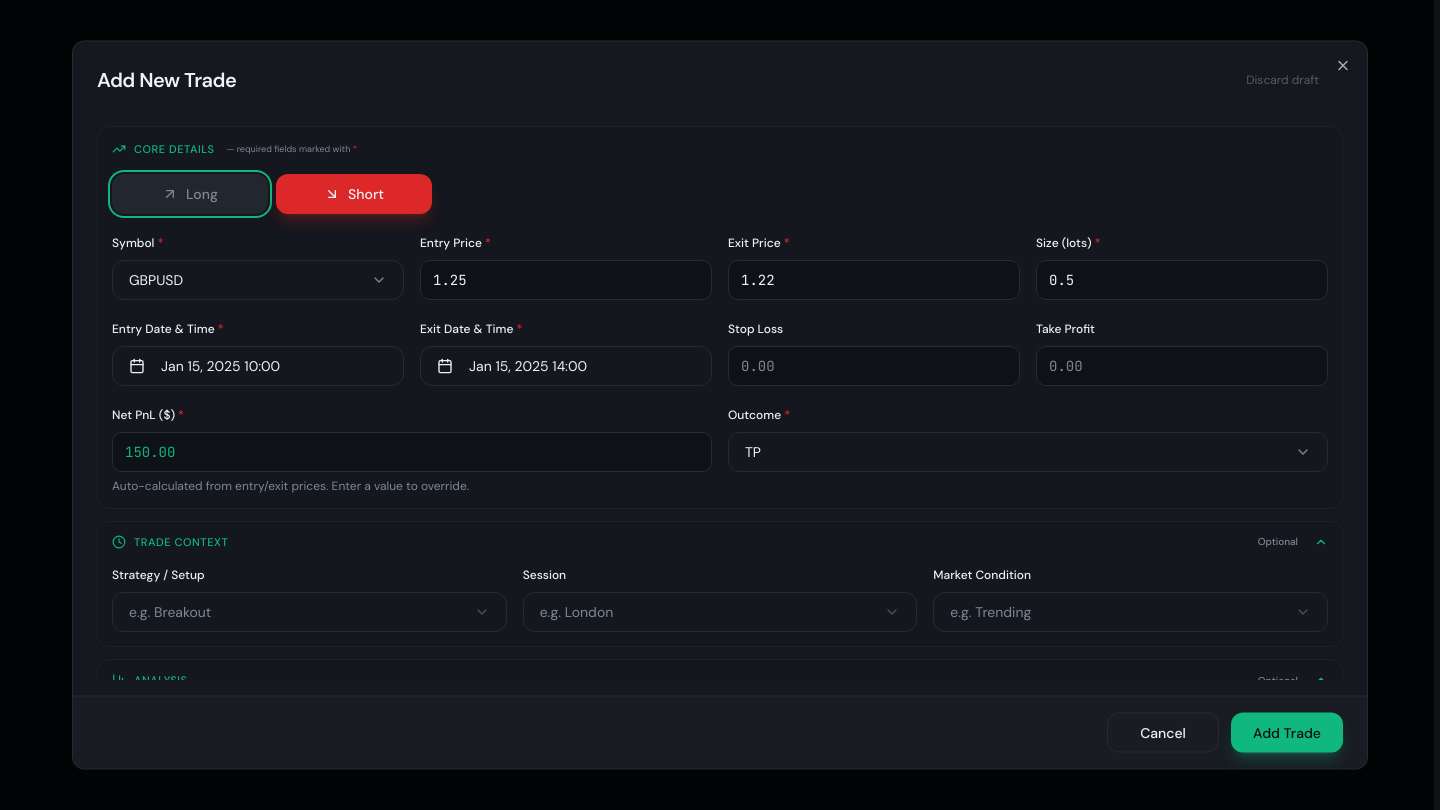
Scenario: AddTradeModal - Form Draft Integration › clears draft and resets form when "Discard draft" is clicked
Click the button "Discard draft" at (1283, 80), box [1246,72,1319,88]
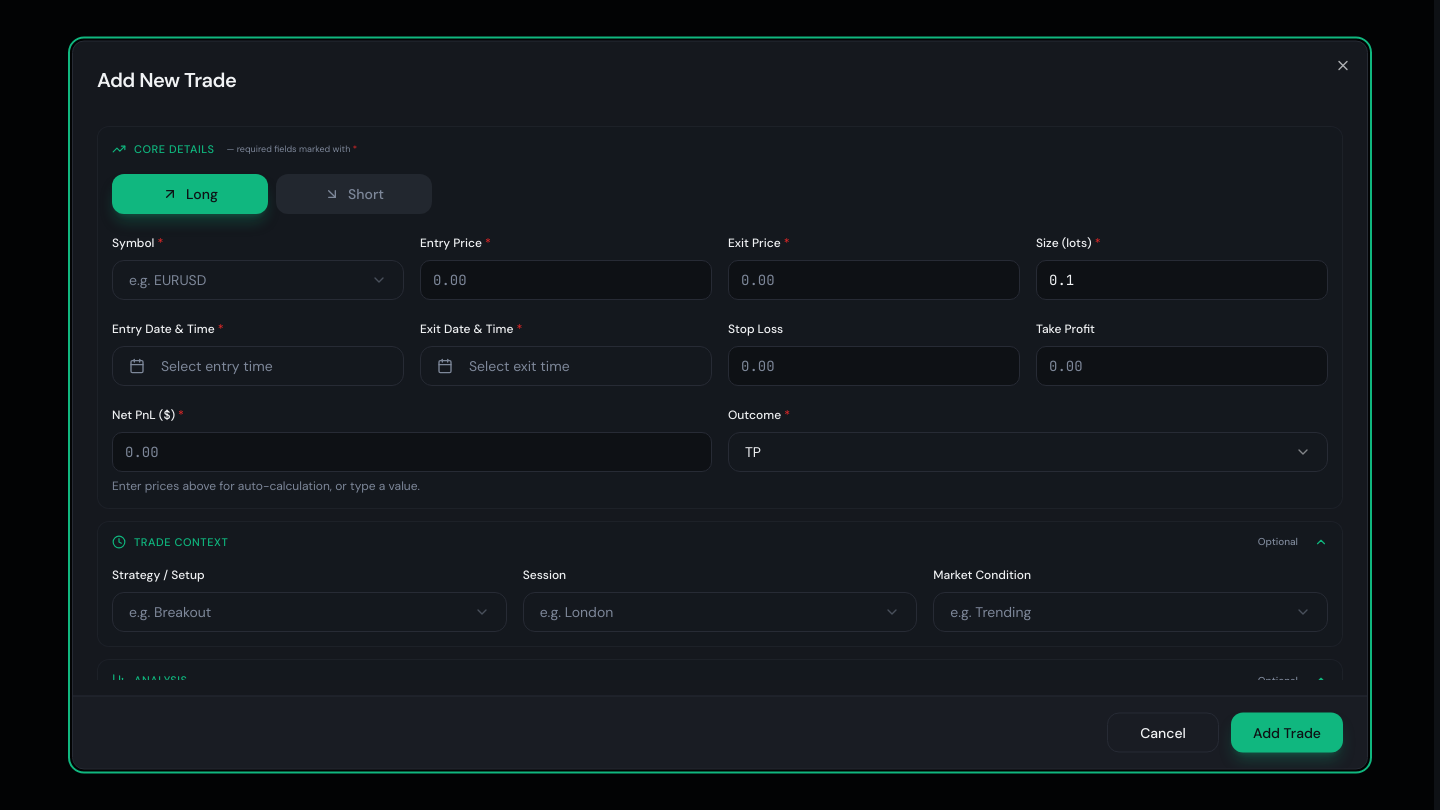
Result: the button "Discard draft" is gone
Result: the number field with placeholder "0.00" below "Entry Price" is empty at [420,259,712,299]
